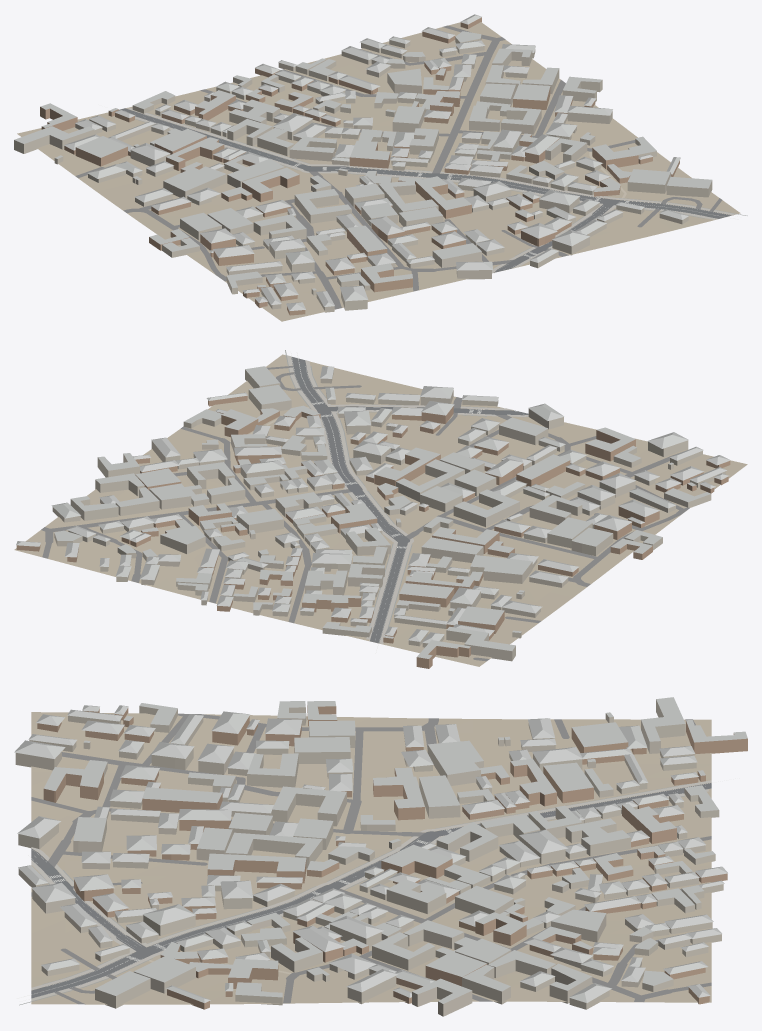
File: bolak_0_5.glb
The picture shows the model from 3 angles, top to bottom: view 1: azimuth 30°, elevation 25°; view 2: azimuth 150°, elevation 25°; view 3: azimuth 270°, elevation 25°; orthographic projection. The views are drawn at different scales.
Parts seen in each view (by area): view 1: Tom_Shifer, Yer_Tuproq-col, Devor_Suvoq-col, Devor_Gisht-col, Yol_Mahalla-col, Yol_Asfalt-col, Trotuar; view 2: Tom_Shifer, Yer_Tuproq-col, Devor_Suvoq-col, Devor_Gisht-col, Yol_Mahalla-col, Yol_Asfalt-col, Trotuar, Ariq, Yol_Chiziq; view 3: Tom_Shifer, Yer_Tuproq-col, Devor_Suvoq-col, Devor_Gisht-col, Yol_Mahalla-col, Yol_Asfalt-col, Trotuar, Ariq, Yol_Chiziq.
Boxes of the visible parts, <box> form: Tom_Shifer: <box>14,14,711,311</box>; Yer_Tuproq-col: <box>17,22,740,321</box>; Devor_Suvoq-col: <box>14,35,712,312</box>; Devor_Gisht-col: <box>40,17,679,315</box>; Yol_Mahalla-col: <box>75,25,722,309</box>; Yol_Asfalt-col: <box>119,108,731,272</box>; Trotuar: <box>125,108,735,272</box>; Tom_Shifer: <box>16,366,730,658</box>; Yer_Tuproq-col: <box>14,354,747,666</box>; Devor_Suvoq-col: <box>52,370,725,661</box>; Devor_Gisht-col: <box>16,395,730,668</box>; Yol_Mahalla-col: <box>41,366,689,661</box>; Yol_Asfalt-col: <box>291,357,528,643</box>; Trotuar: <box>287,355,528,643</box>; Ariq: <box>285,350,527,628</box>; Yol_Chiziq: <box>291,352,523,653</box>; Tom_Shifer: <box>14,697,747,1003</box>; Yer_Tuproq-col: <box>31,712,711,1004</box>; Devor_Suvoq-col: <box>15,699,723,1016</box>; Devor_Gisht-col: <box>37,705,747,1009</box>; Yol_Mahalla-col: <box>31,713,711,1004</box>; Yol_Asfalt-col: <box>31,783,711,998</box>; Trotuar: <box>31,780,711,1000</box>; Ariq: <box>19,784,688,1005</box>; Yol_Chiziq: <box>17,778,739,1000</box>.
Size of what is drawn, in the model's own units: 435 by 16.5 by 432.
